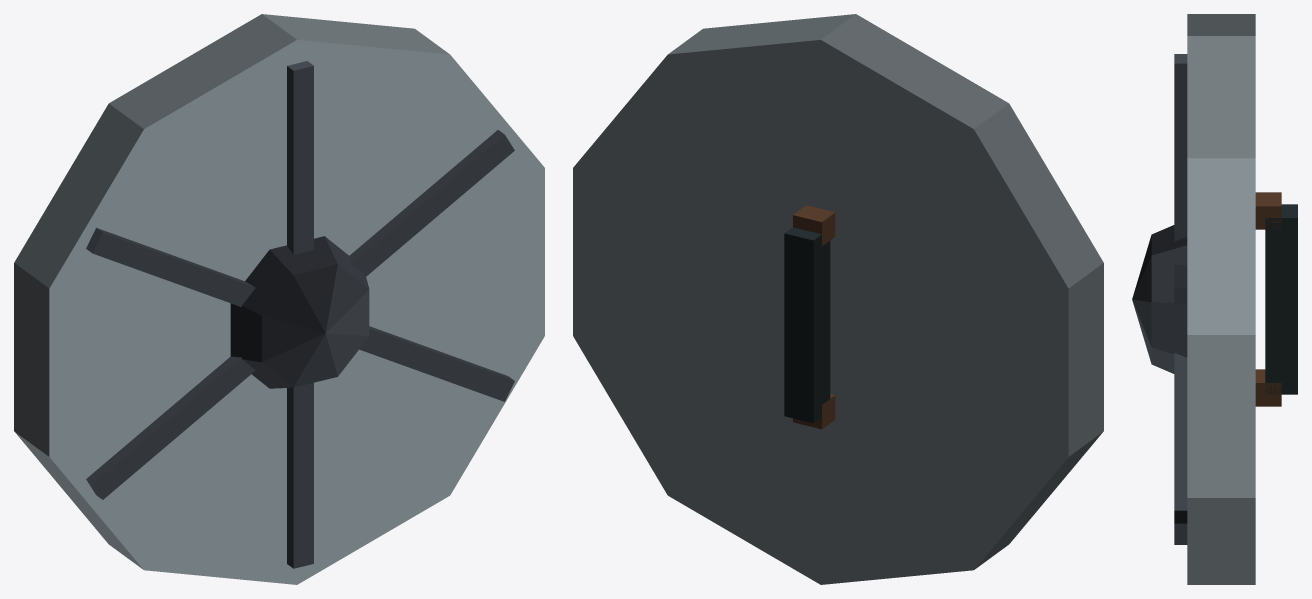
File: barb_off_1.gltf
3 views of the same model, side by side, from view 1: azimuth 30°, elevation 25°; view 2: azimuth 150°, elevation 25°; view 3: azimuth 270°, elevation 25° (orthographic). The views are drawn at different scales.
Parts seen in each view (by area): view 1: barb_off_1; view 2: barb_off_1; view 3: barb_off_1.
Part boxes in pixels (x1,y1,x2,y2): barb_off_1: (14, 14, 544, 584); barb_off_1: (573, 14, 1103, 584); barb_off_1: (1132, 14, 1297, 584).
Size of the model in its own units: 0.8506 by 0.8944 by 0.255.
1 material, 1 textured.
